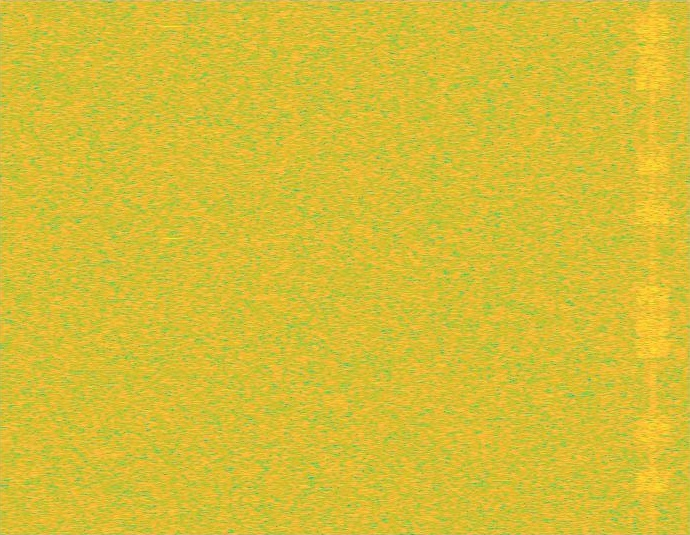DSSS: (649, 0, 657, 534)
LTE: (635, 0, 670, 534)
Radar: (165, 0, 179, 534)
